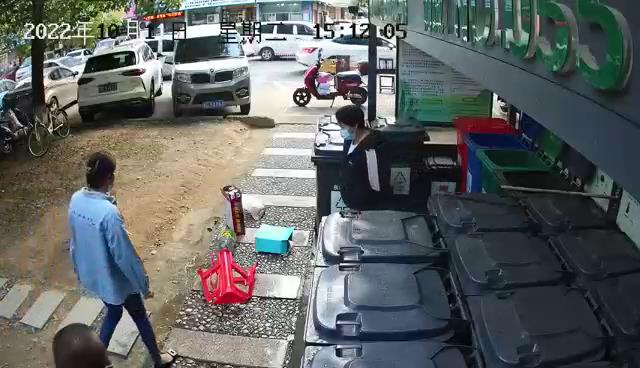person: (335, 104, 392, 209), (51, 321, 113, 368)
suliaozhipin: (195, 251, 259, 307), (208, 226, 237, 252)
worker: (66, 150, 178, 368)
zhizhipin: (218, 182, 246, 236), (254, 224, 295, 256)
